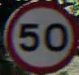Speed limit: (3, 3, 75, 67)
